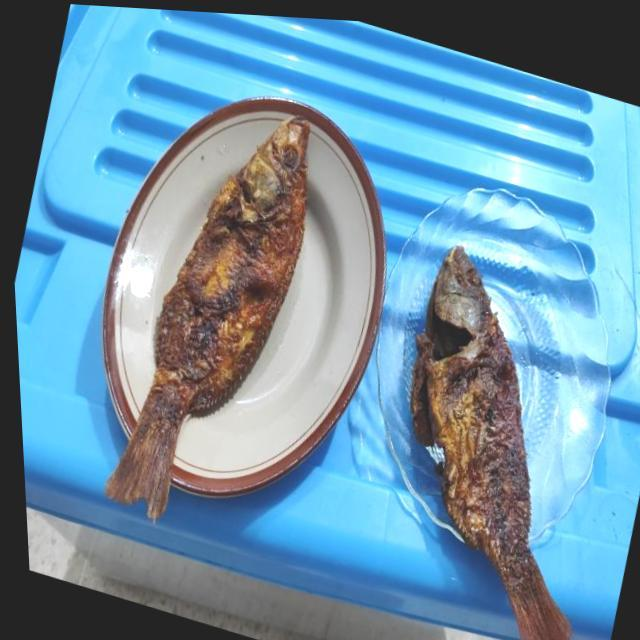ikan_mujair: (104, 115, 310, 520), (409, 245, 572, 640)
